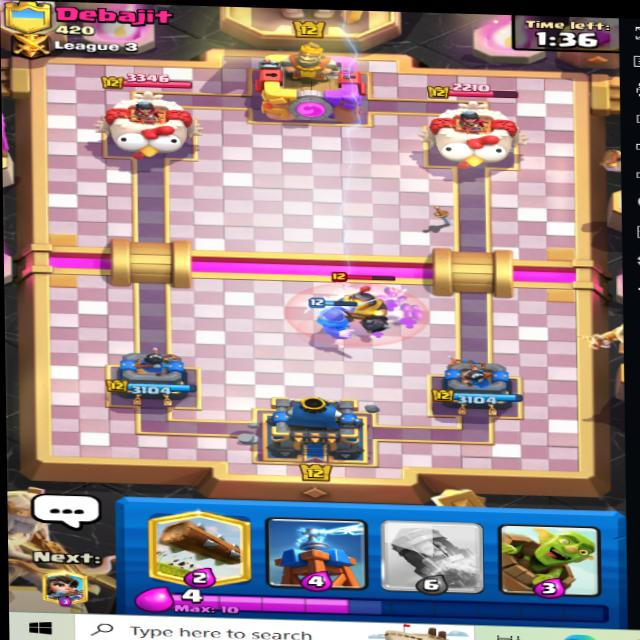mega-knight: (340, 283, 405, 335)
zap: (295, 283, 418, 351)
